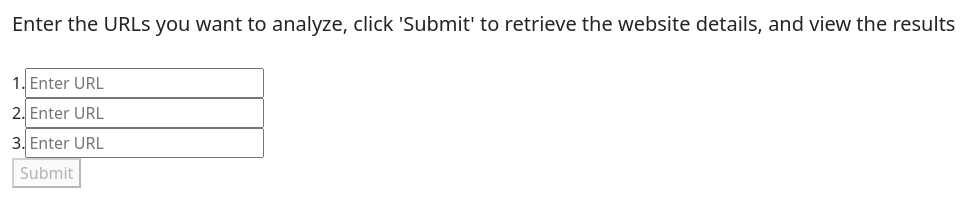
submit button is disabled when at least one field is empty
Expected: the button "Submit" is disabled, x1=12 y1=158 x2=81 y2=188
# If at least one field is filled, the button should remain disabled
Type "https://example.com" into the 1st field with placeholder "Enter URL" at [145, 83], box x1=26 y1=68 x2=264 y2=98
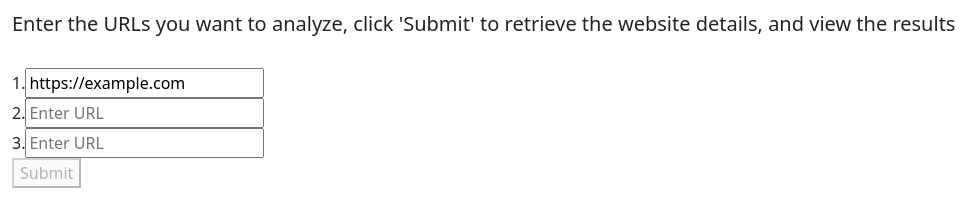
Expected: the button "Submit" is disabled, x1=12 y1=158 x2=81 y2=188
# Fill all fields, the button should be enabled
Type "https://test.com" into the 1st field with placeholder "Enter URL" at [145, 113], box x1=26 y1=98 x2=264 y2=128
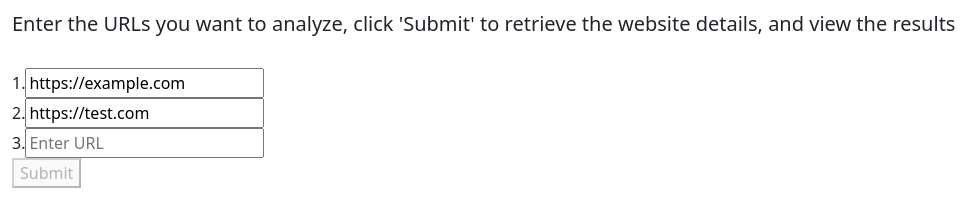
Type "https://another.com" into the field with placeholder "Enter URL" at [145, 143], box x1=26 y1=128 x2=264 y2=158
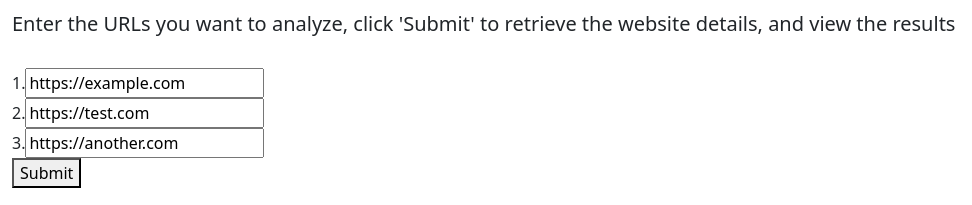
Now the button "Submit" is enabled, box x1=12 y1=158 x2=81 y2=188
